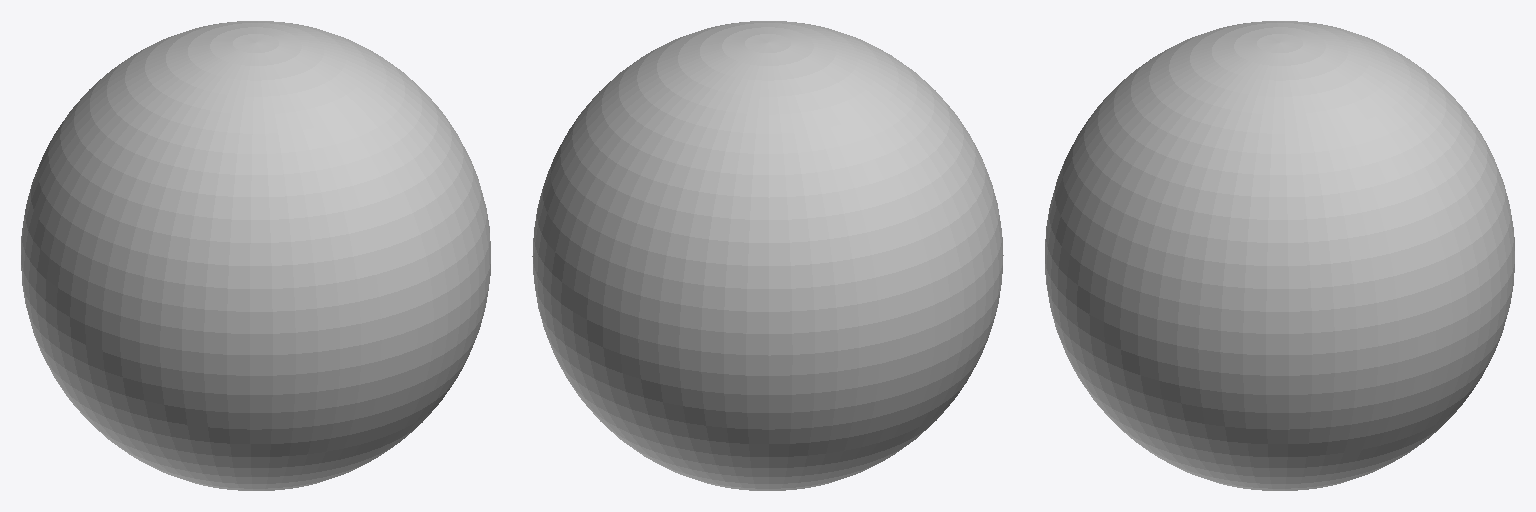
Rendered from asterobj2.obj.
3 renders of one model, left to right at view 1: azimuth 30°, elevation 25°; view 2: azimuth 150°, elevation 25°; view 3: azimuth 270°, elevation 25°, orthographic.
Size of the model in its own units: 16.27 by 16.28 by 16.27.